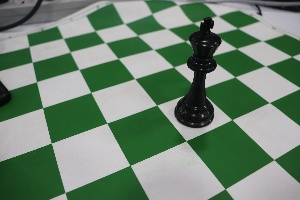black_king: (173, 10, 218, 130)
